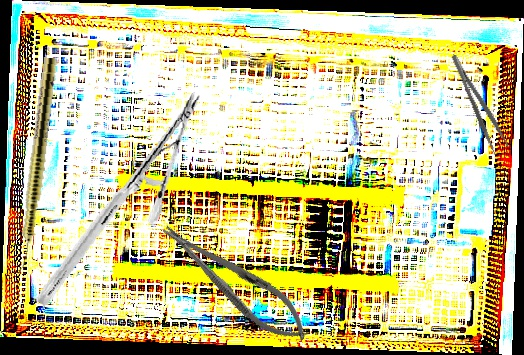Dressing Forceps: (448, 48, 511, 157)
Handpiece: (13, 56, 59, 276)
Needle Holder: (35, 74, 203, 324), (152, 210, 319, 354)
